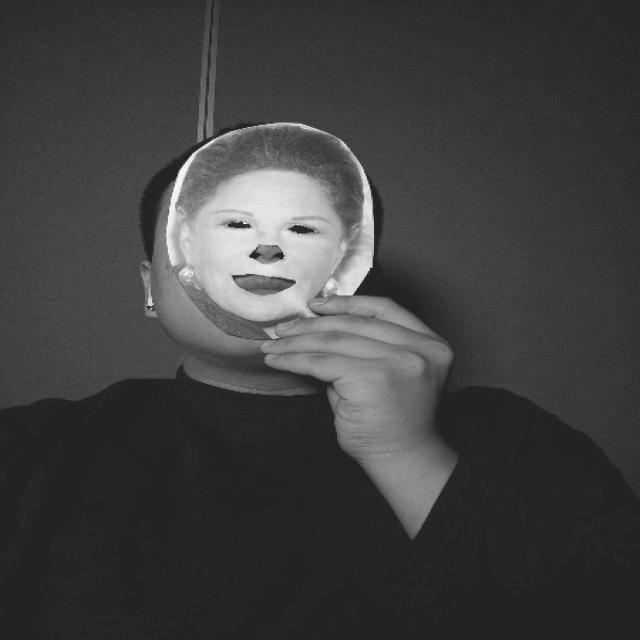fake: (160, 118, 380, 344)
